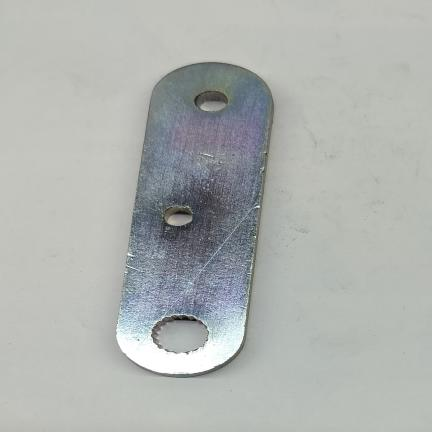line defect: (169, 198, 273, 300)
